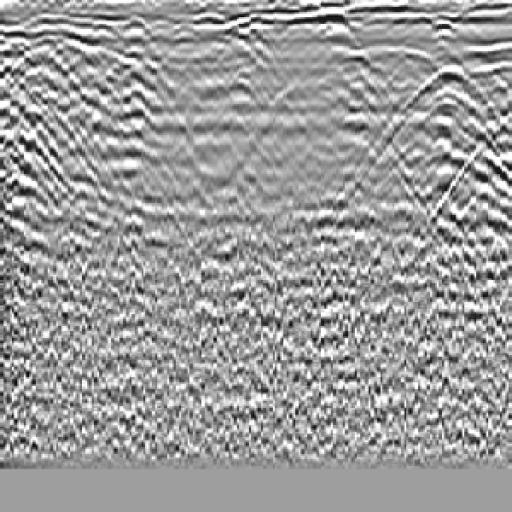non-metallic: (335, 33, 512, 272)
